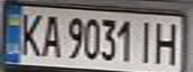0: (81, 15, 100, 61)
1: (115, 17, 136, 63)
3: (100, 16, 118, 62)
9: (60, 12, 84, 60)
A: (36, 11, 63, 58)
H: (151, 18, 184, 65)
I: (133, 18, 157, 64)
K: (15, 9, 45, 57)
